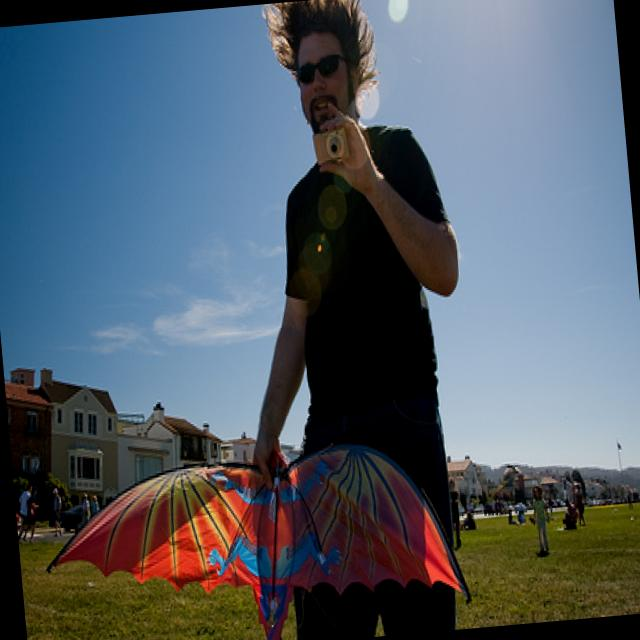Vehicle: (60, 504, 94, 532)
